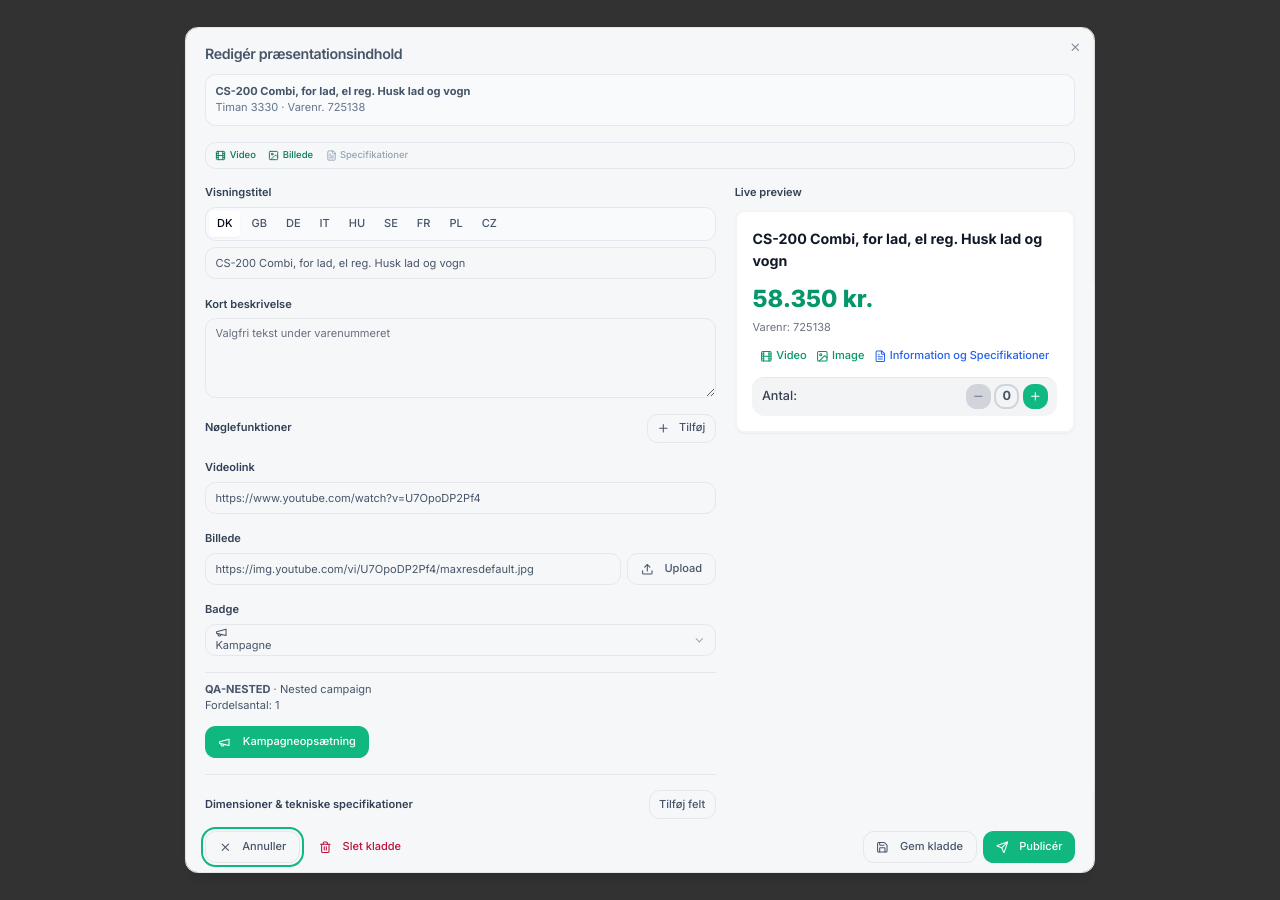
Test: nested Marketing publish flow › returns from campaign publish with the product draft intact, then closes after product publish
Later steps or results of the test are not shown.
Replace the text in the field named "Visningstitel Dansk" with "Bevaret produkttitel" at coordinates (460, 263), box x1=205 y1=247 x2=716 y2=279
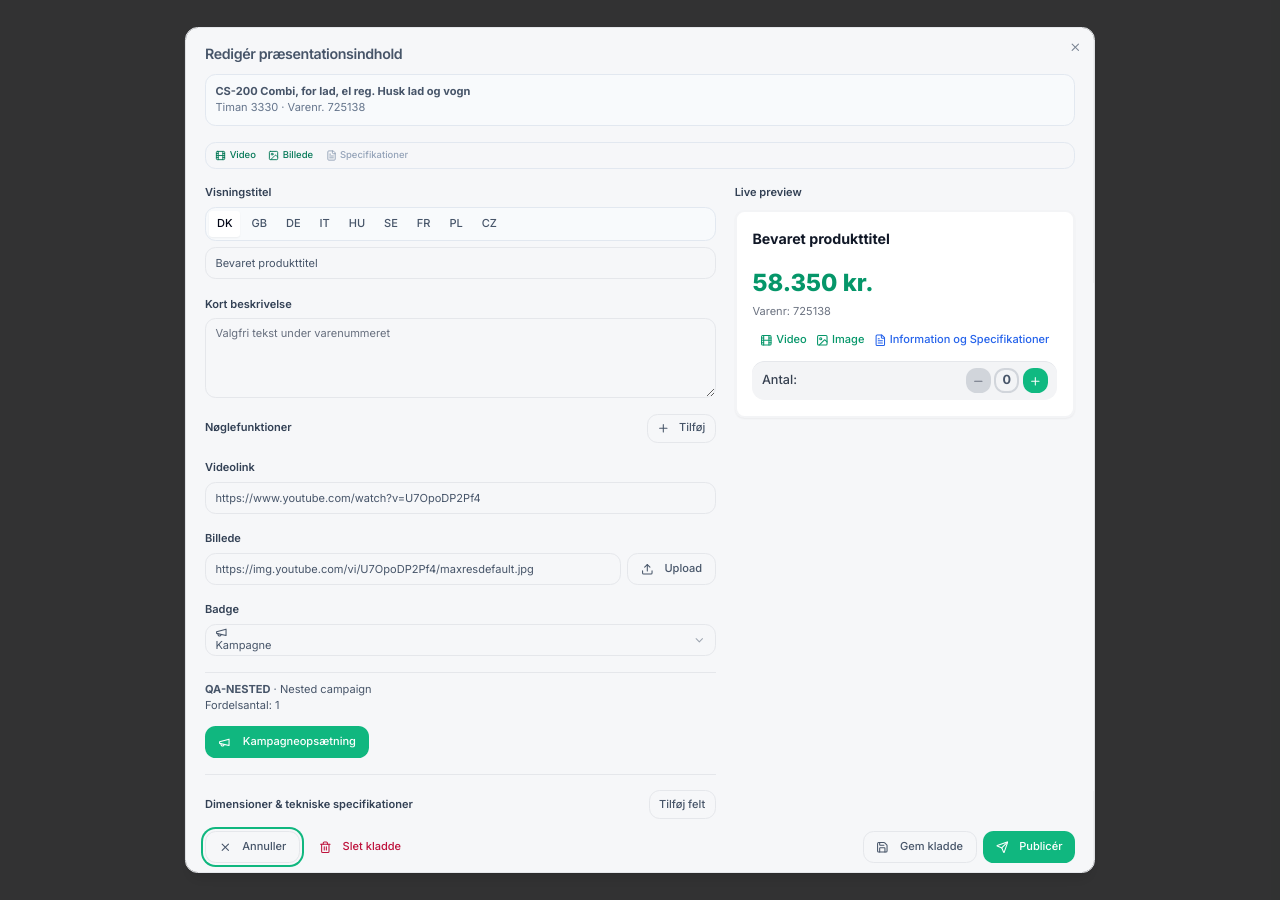
Click the button "Kampagneopsætning" at coordinates (287, 742), box x1=205 y1=726 x2=368 y2=758
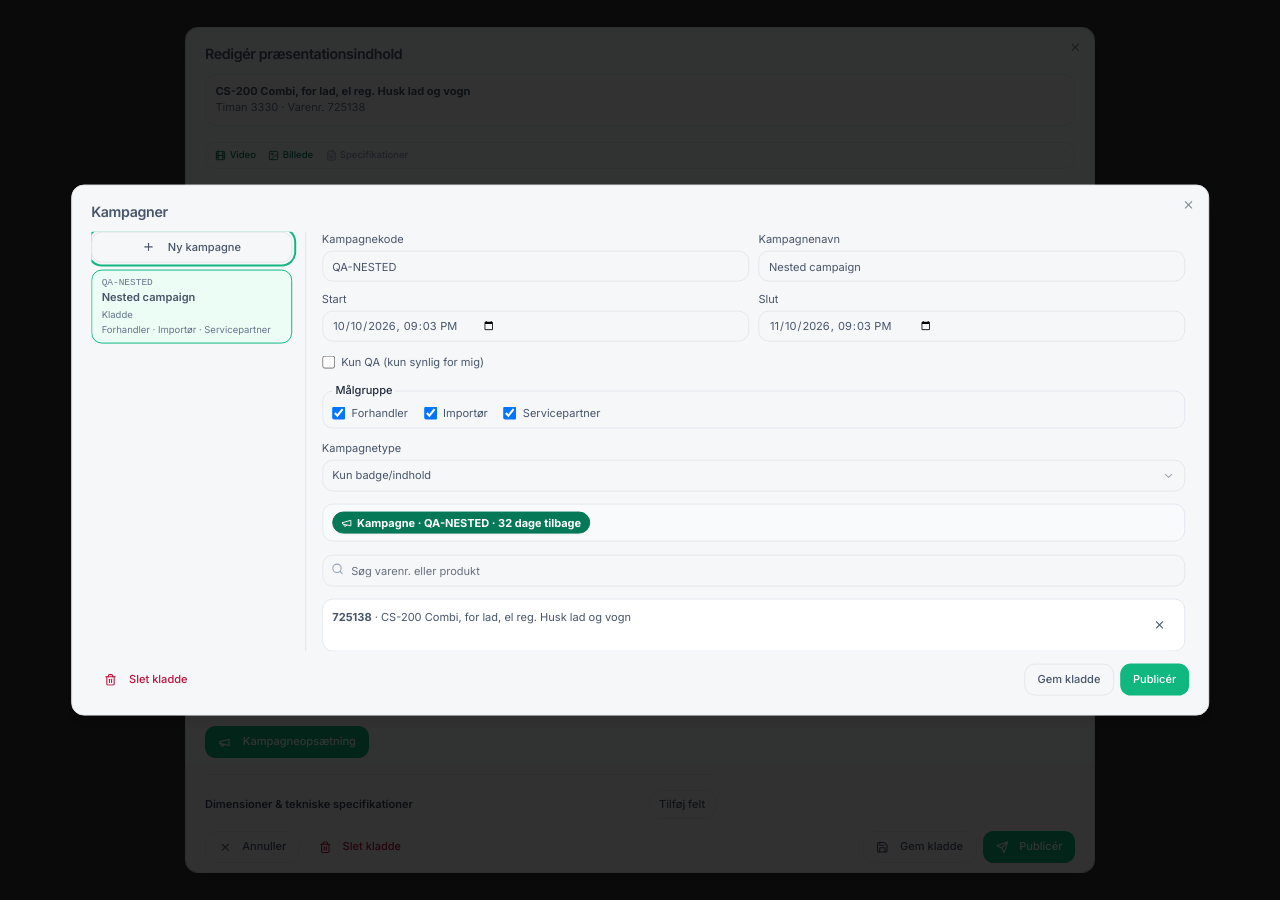
Replace the text in the field labelled "Kampagnenavn" with "Opdateret kampagne" at coordinates (972, 266), box x1=758 y1=250 x2=1186 y2=282
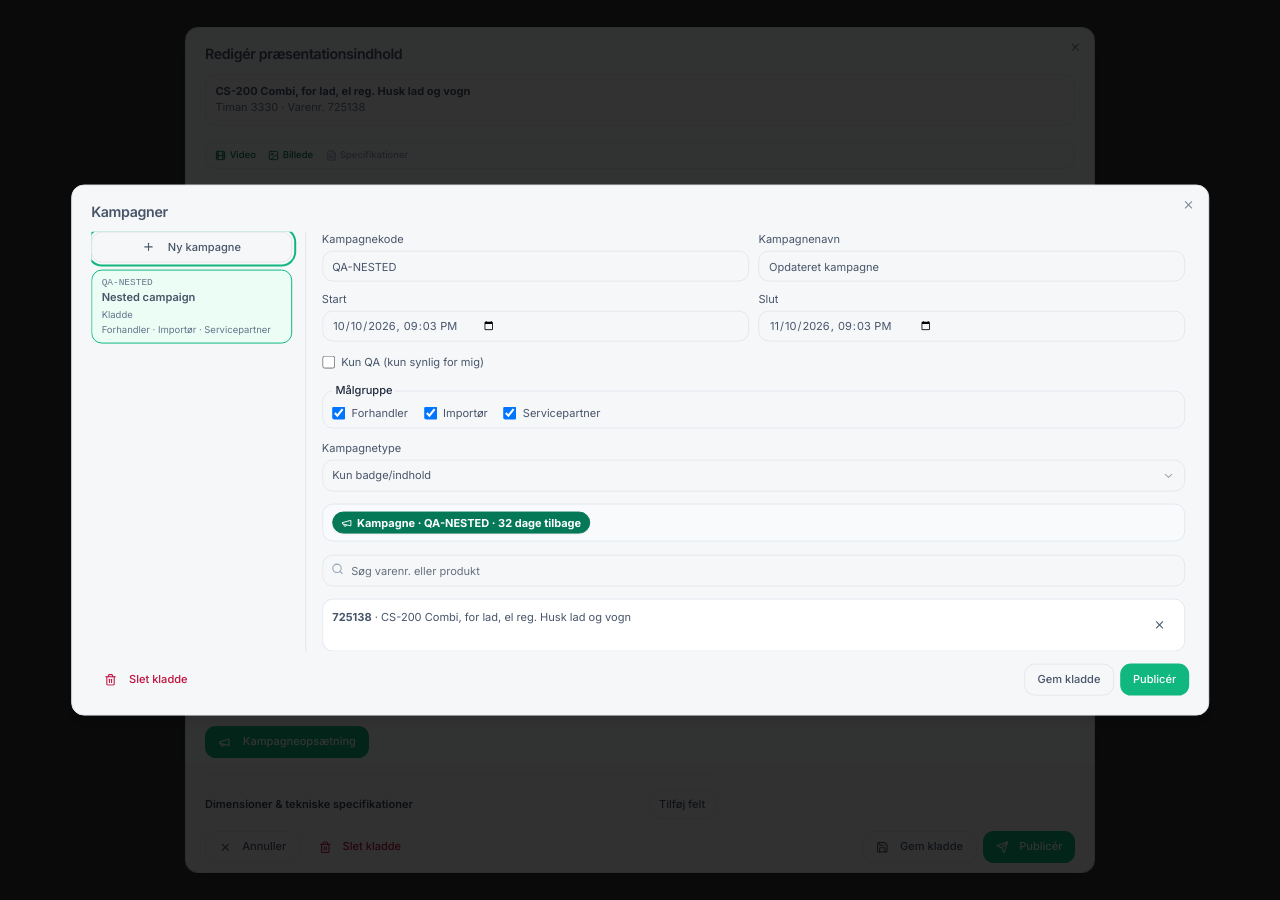
Click the button "Publicér" at coordinates (1155, 680), box x1=1120 y1=664 x2=1189 y2=696
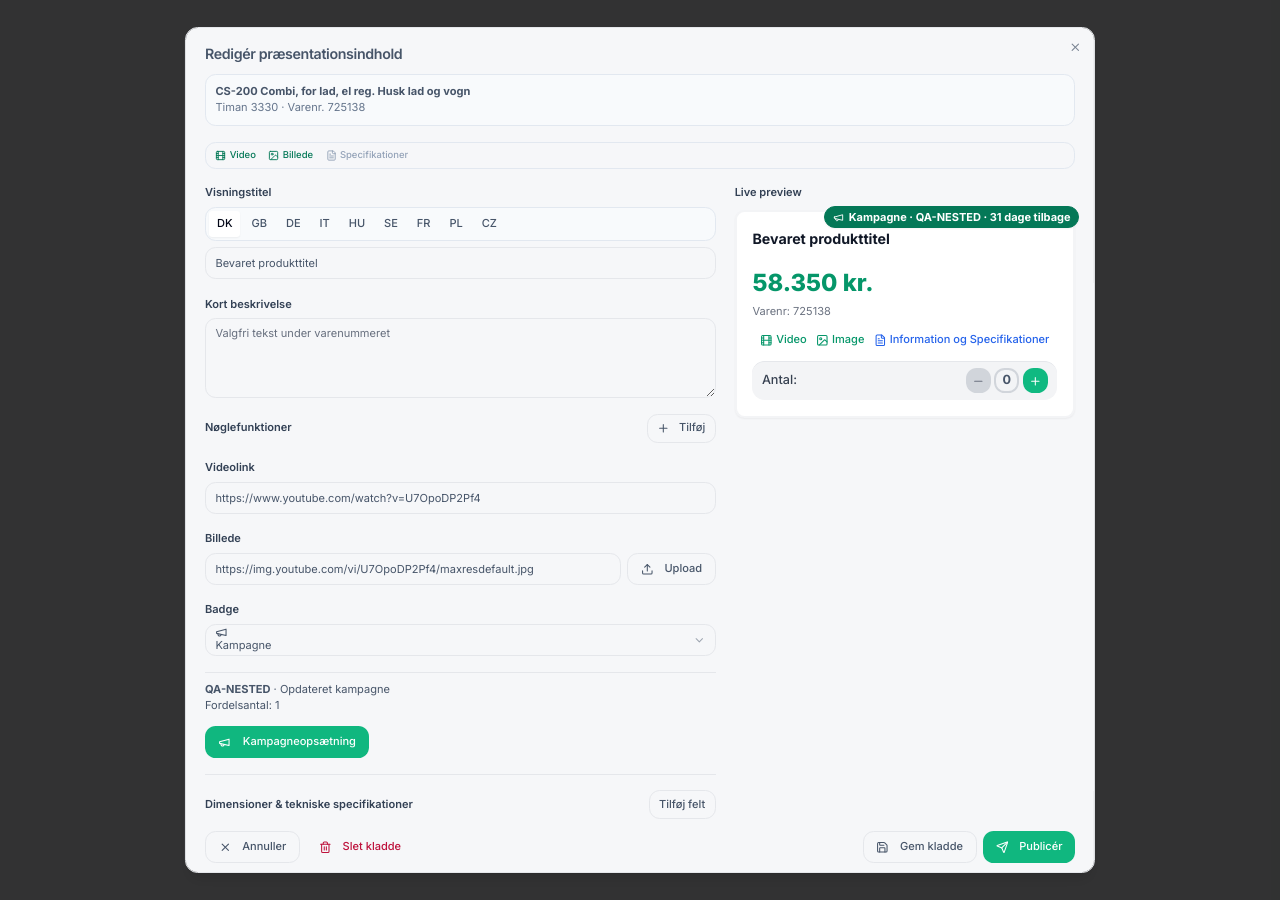
Expected: the heading "Redigér præsentationsindhold" is shown, x1=205 y1=45 x2=402 y2=62
Result: the element with test id "linked-campaign-summary" shows "Opdateret kampagne" at x1=280 y1=682 x2=390 y2=696
